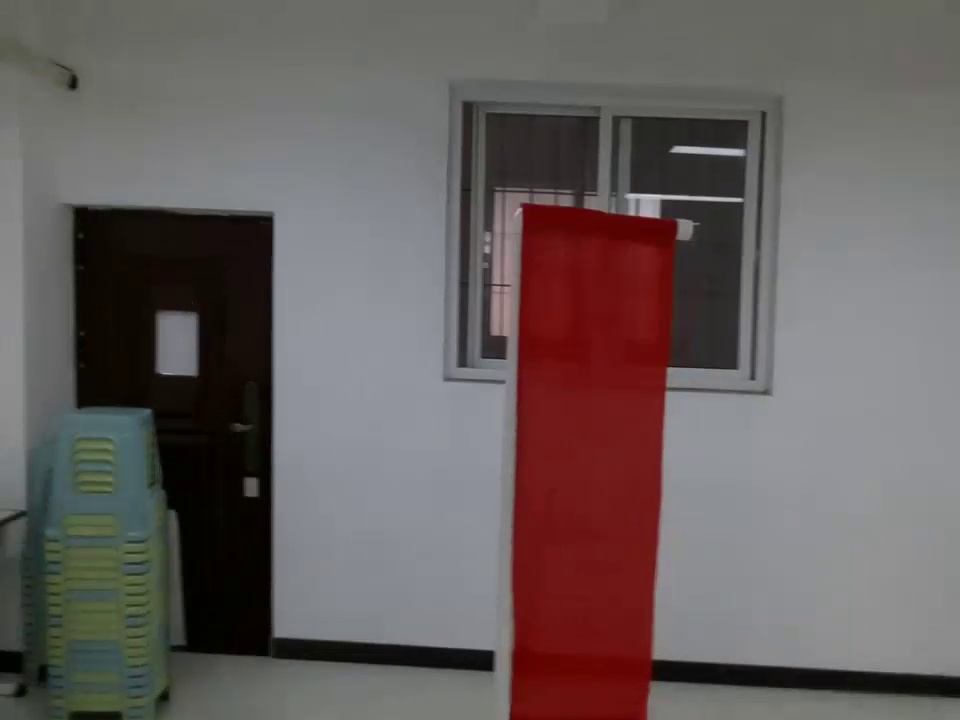qi: (509, 203, 681, 720)
